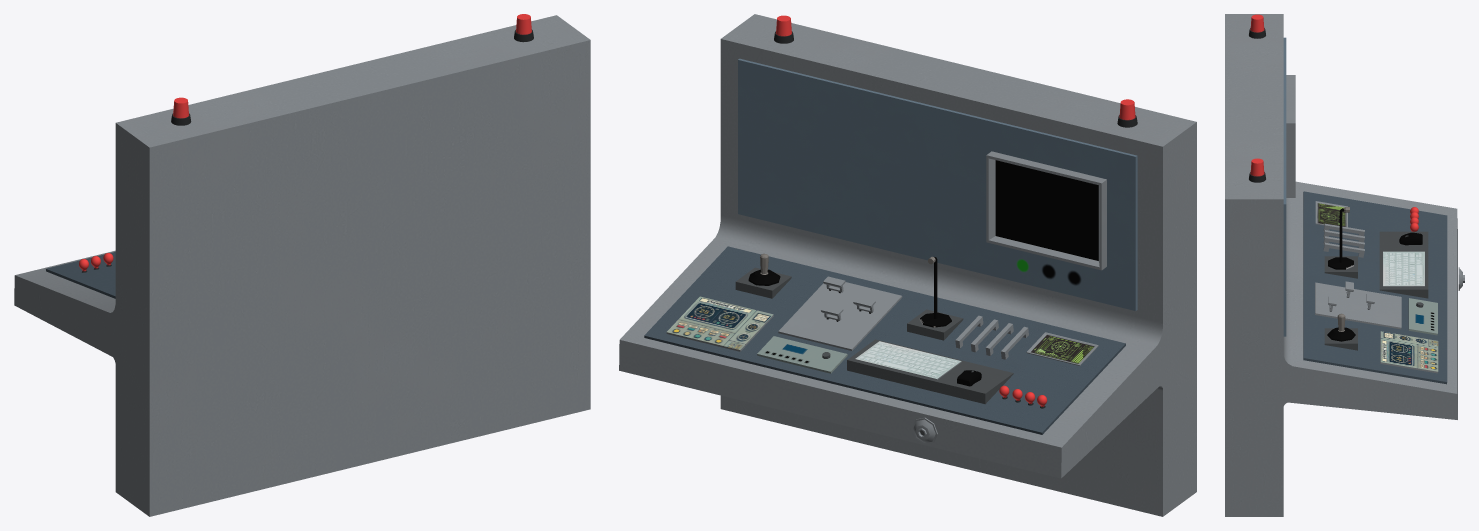
The model's file is Table_Operations.fbx.
3 views of the same model, side by side, from view 1: azimuth 30°, elevation 25°; view 2: azimuth 150°, elevation 25°; view 3: azimuth 270°, elevation 25° (orthographic). The views are drawn at different scales.
Parts seen in each view (by area): view 1: Maquina Op, Panel_Inferior; view 2: Maquina Op, Panel_Superior, Panel_Inferior, Pantalla, Botonera_Faders, Botonera.001, BaseTeclado, Teclado, Botonera.002, PantallaPequeña, Base Pequeña, Base Pequeña.001 (+1 smaller); view 3: Maquina Op, Panel_Inferior, Botonera_Faders, Botonera.001, Teclado, BaseTeclado, Pantalla, Panel_Superior, Botonera.002, PantallaPequeña, Microfono, Base Pequeña (+4 smaller).
Boxes of the visible parts, x1,y1,x2,y2 form: Maquina Op: [14, 15, 590, 516]; Panel_Inferior: [46, 252, 115, 298]; Maquina Op: [619, 14, 1196, 516]; Panel_Superior: [738, 58, 1137, 310]; Panel_Inferior: [644, 246, 1125, 434]; Pantalla: [986, 151, 1106, 270]; Botonera_Faders: [778, 282, 902, 350]; Botonera.001: [666, 296, 773, 351]; BaseTeclado: [847, 339, 1013, 404]; Teclado: [855, 341, 961, 379]; Botonera.002: [757, 336, 847, 373]; PantallaPequeña: [1026, 332, 1098, 365]; Base Pequeña: [907, 309, 963, 340]; Base Pequeña.001: [735, 267, 791, 298]; Maquina Op: [1225, 14, 1457, 516]; Panel_Inferior: [1303, 191, 1447, 384]; Botonera_Faders: [1315, 282, 1401, 329]; Botonera.001: [1380, 331, 1438, 373]; Teclado: [1383, 251, 1424, 286]; BaseTeclado: [1379, 231, 1428, 298]; Pantalla: [1286, 75, 1295, 197]; Panel_Superior: [1283, 37, 1286, 336]; Botonera.002: [1408, 298, 1437, 335]; PantallaPequeña: [1315, 201, 1347, 227]; Microfono: [1328, 207, 1353, 269]; Base Pequeña: [1324, 256, 1357, 278].
Size of the model in its own units: 1.2 by 2.2 by 1.86.
